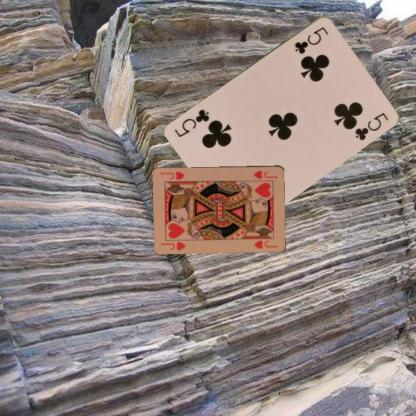5c: (292, 24, 330, 55)
Jh: (251, 168, 278, 180), (159, 240, 187, 251)
